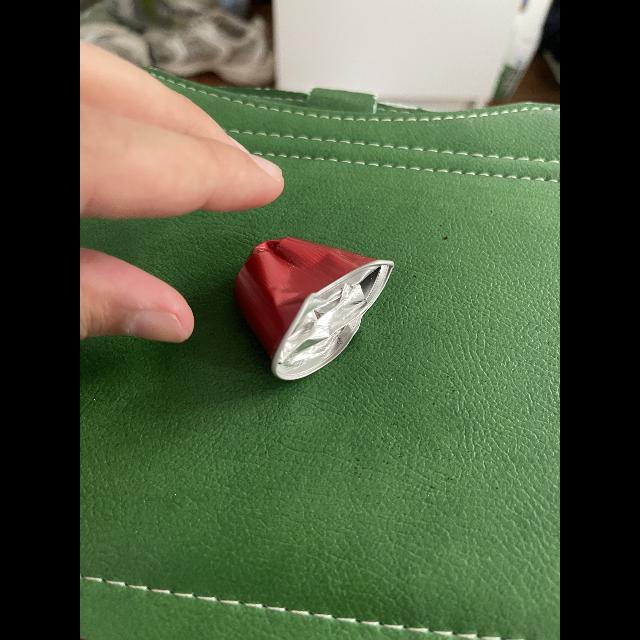damaged_capsule: (224, 221, 400, 385)
